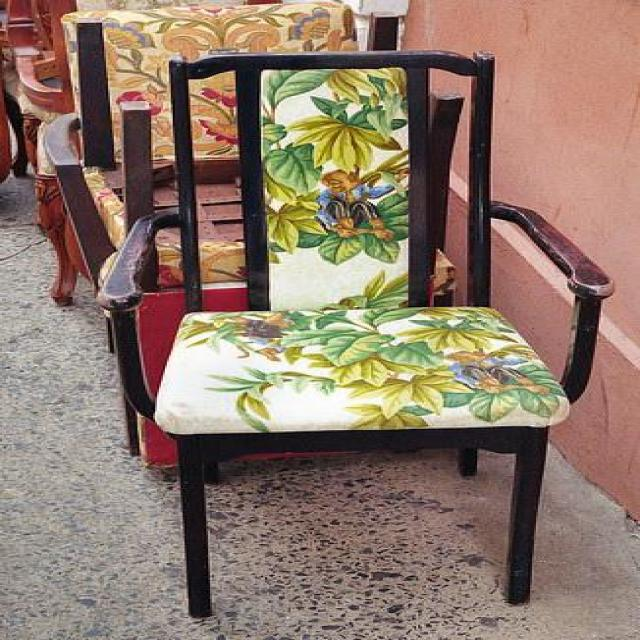chair: (93, 44, 618, 620)
